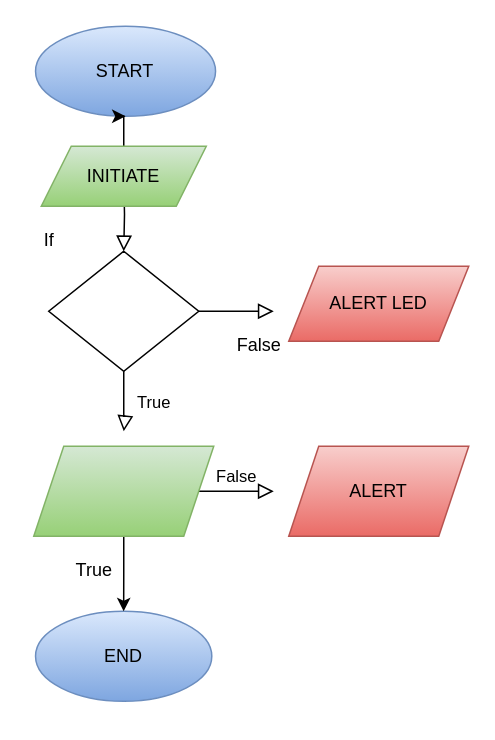
The diagram is 495 pixels wide and 740 high, and some of its shapes have lost their labels. Here are the shapes that lost their labels. From the top down, the centre of each, then its label:
At pixel 123 310: "Pet.Food.Time".
At pixel 123 490: "DISPENSE".
